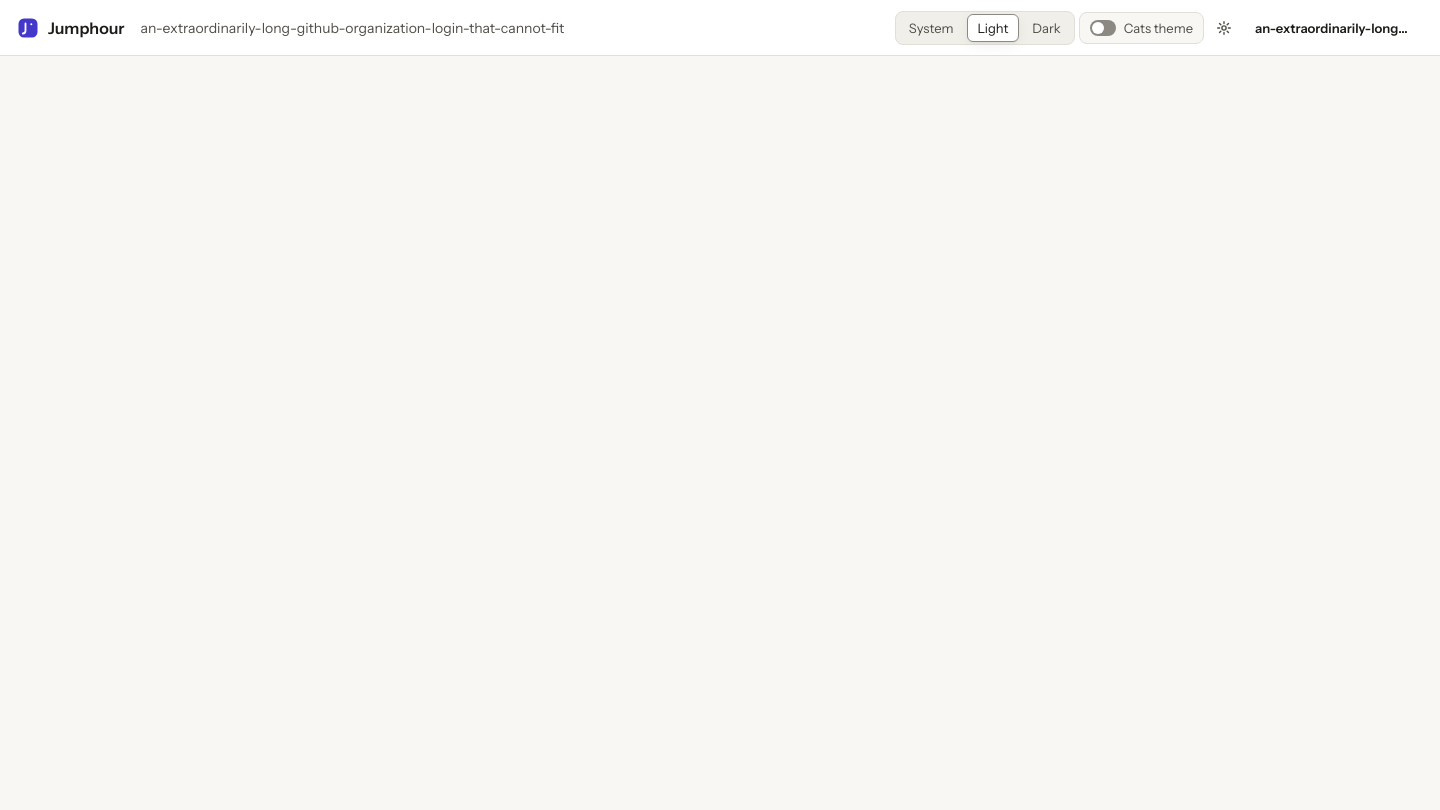
Test: a long account login › keeps the full value available through title and the open account menu
Expected: the text named "an-extraordinarily-long-github-organization-login-that-canno" reads "an-extraordinarily-long-github-organization-login-that-cannot-fit", [141, 18, 564, 36]
Click the button "an-extraordinarily-long-github-organization-login-that-cannot-fit" at (1334, 28), box [1244, 12, 1424, 44]
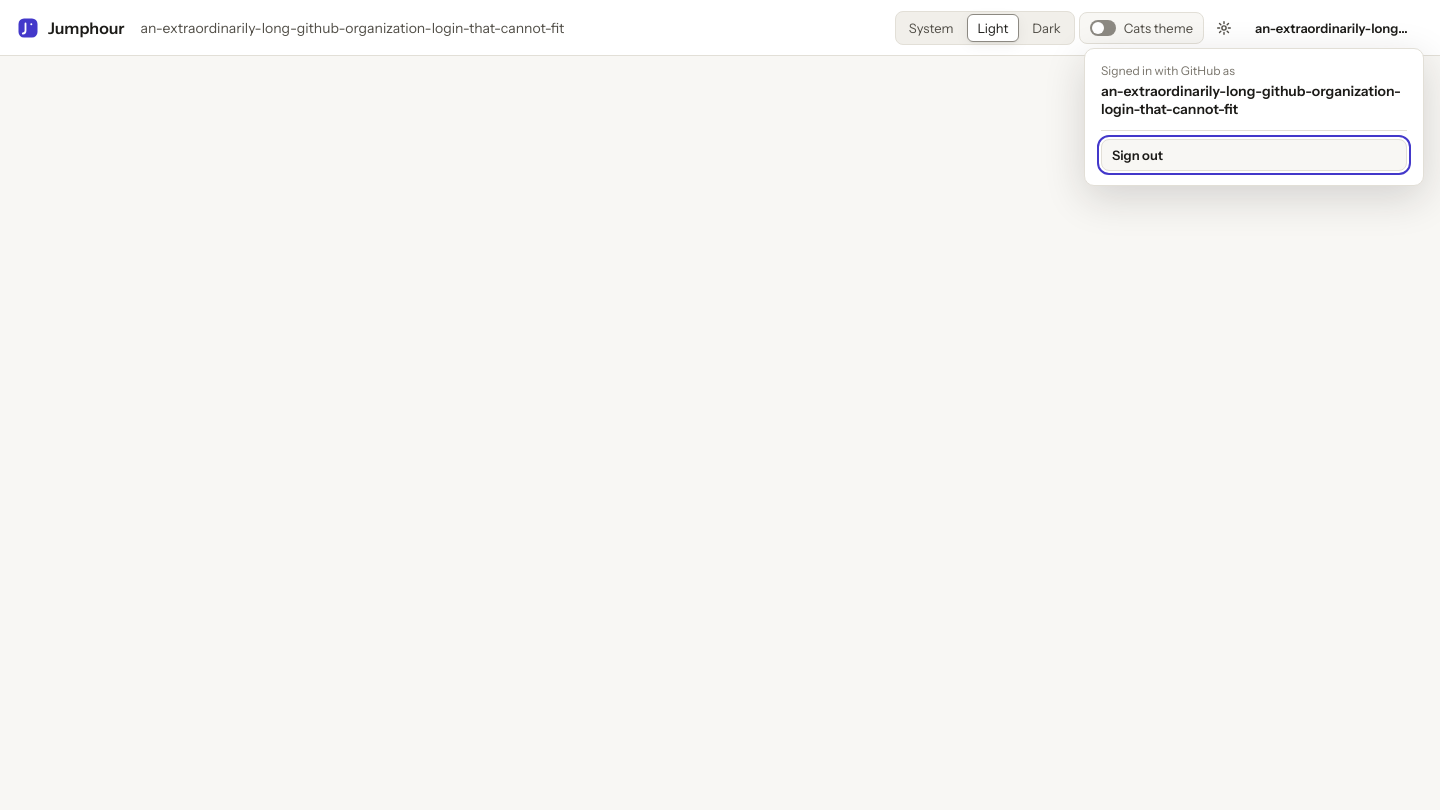
Expected: the text "an-extraordinarily-long-github-organization-login-that-cannot-fit" below "Signed in with GitHub as" is shown, [1101, 82, 1401, 118]
